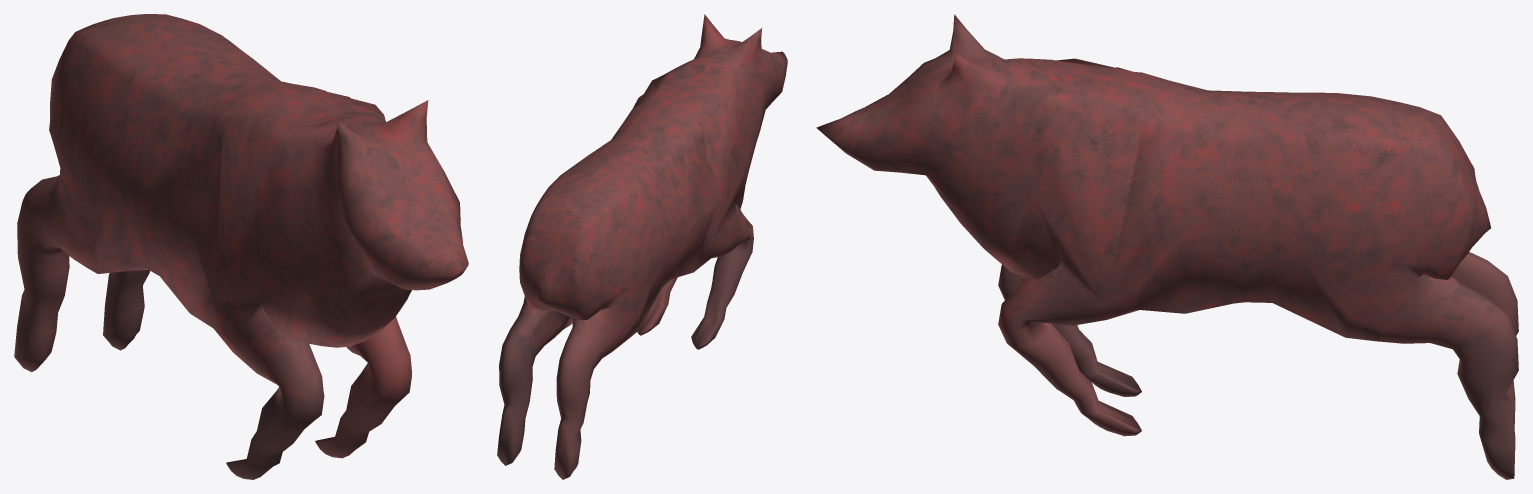
File: piesblend_000025.obj
3 renders of one model, left to right at view 1: azimuth 30°, elevation 25°; view 2: azimuth 150°, elevation 25°; view 3: azimuth 270°, elevation 25°, orthographic. The views are drawn at different scales.
Parts seen in each view (by area): view 1: Cube; view 2: Cube; view 3: Cube.
Part boxes in pixels (box(x1,y1,x2,y2)): Cube: box(14, 14, 468, 479); Cube: box(497, 14, 787, 479); Cube: box(816, 14, 1518, 479).
Size of the model in its own units: 2.55 by 6.39 by 9.52.
Materials: 1 (1 with a texture image).
